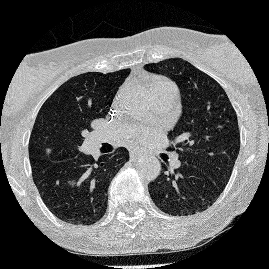nodule: (46, 149, 50, 153)
